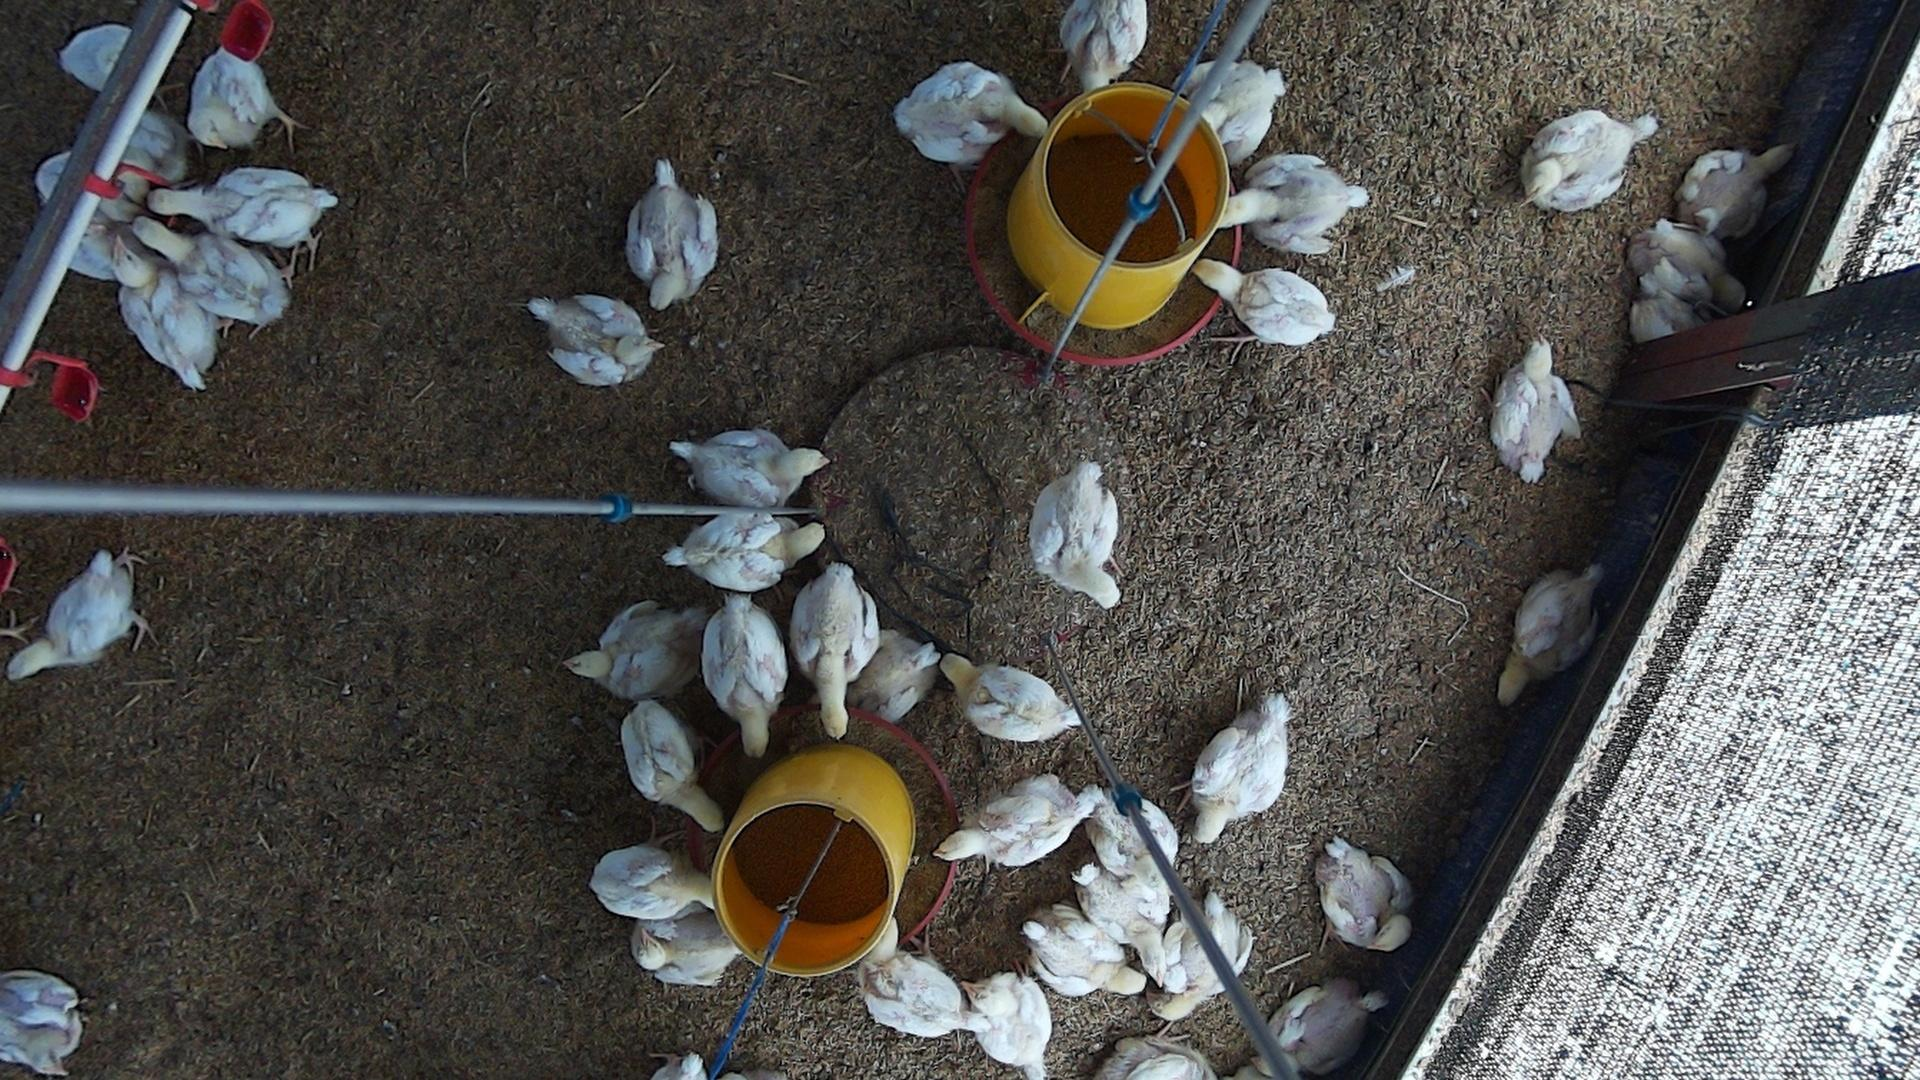ayam_broiler: (113, 235, 235, 389), (5, 551, 137, 679), (136, 220, 291, 327), (789, 563, 880, 741), (895, 63, 1050, 167), (1211, 153, 1369, 253), (935, 775, 1101, 869), (1191, 695, 1291, 847), (154, 169, 339, 248), (566, 601, 711, 699), (1149, 886, 1254, 1018), (626, 161, 719, 311), (1505, 564, 1602, 705), (703, 596, 786, 761), (1029, 463, 1121, 609), (621, 700, 721, 833), (665, 510, 827, 592), (1524, 111, 1656, 211), (855, 927, 969, 1038), (1493, 340, 1580, 483), (673, 430, 829, 506), (1085, 791, 1179, 916), (529, 297, 659, 386), (1263, 982, 1390, 1075), (1022, 906, 1146, 998), (942, 662, 1081, 744), (1195, 265, 1336, 345), (1076, 862, 1167, 986), (1185, 61, 1287, 164), (1627, 219, 1743, 309), (1319, 839, 1411, 951), (189, 51, 290, 150), (589, 845, 719, 922), (1681, 148, 1787, 239), (964, 973, 1051, 1080), (1, 972, 83, 1079), (633, 916, 740, 988), (1065, 0, 1146, 91), (865, 633, 939, 725), (59, 22, 132, 94), (1630, 295, 1714, 344)
